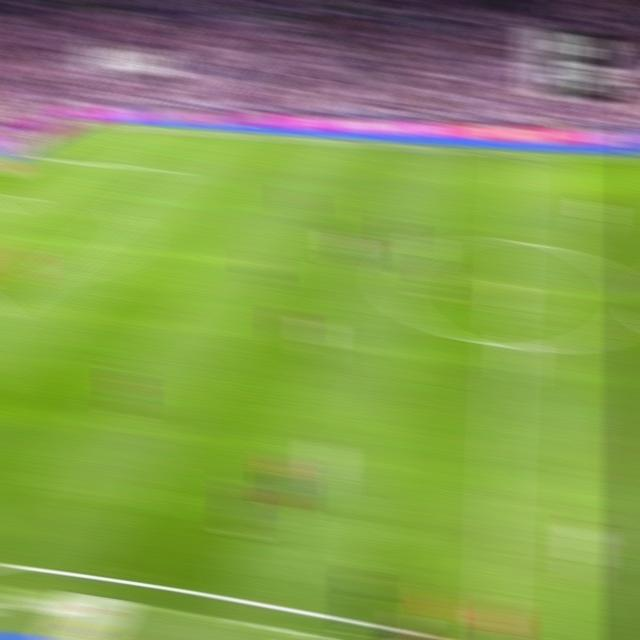bigarea_top_inner: (160, 163, 186, 178)
bigarea_top_outter: (23, 150, 47, 162)
bottom_arc_area_intersection: (30, 271, 56, 288)
halfcircle_bottom: (491, 332, 520, 359)
halfcircle_top: (496, 228, 525, 252)
midline_top_intersection: (502, 146, 527, 162)
smallarea_top_inner: (11, 192, 33, 202)
top_arc_area_intersection: (111, 206, 135, 219)
